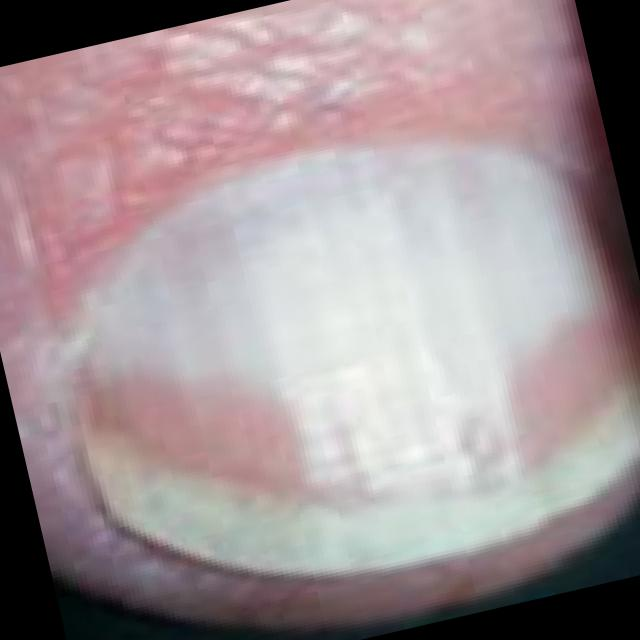Nail: (77, 143, 640, 572)
